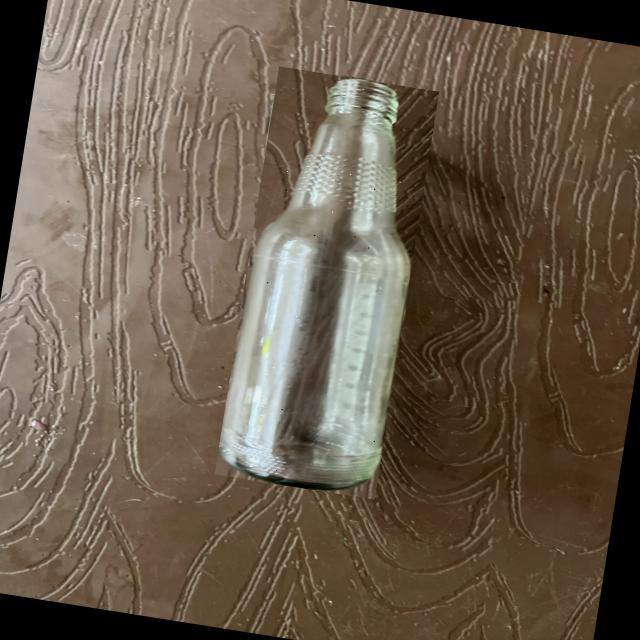Glass_Bottle: (220, 79, 410, 490)
